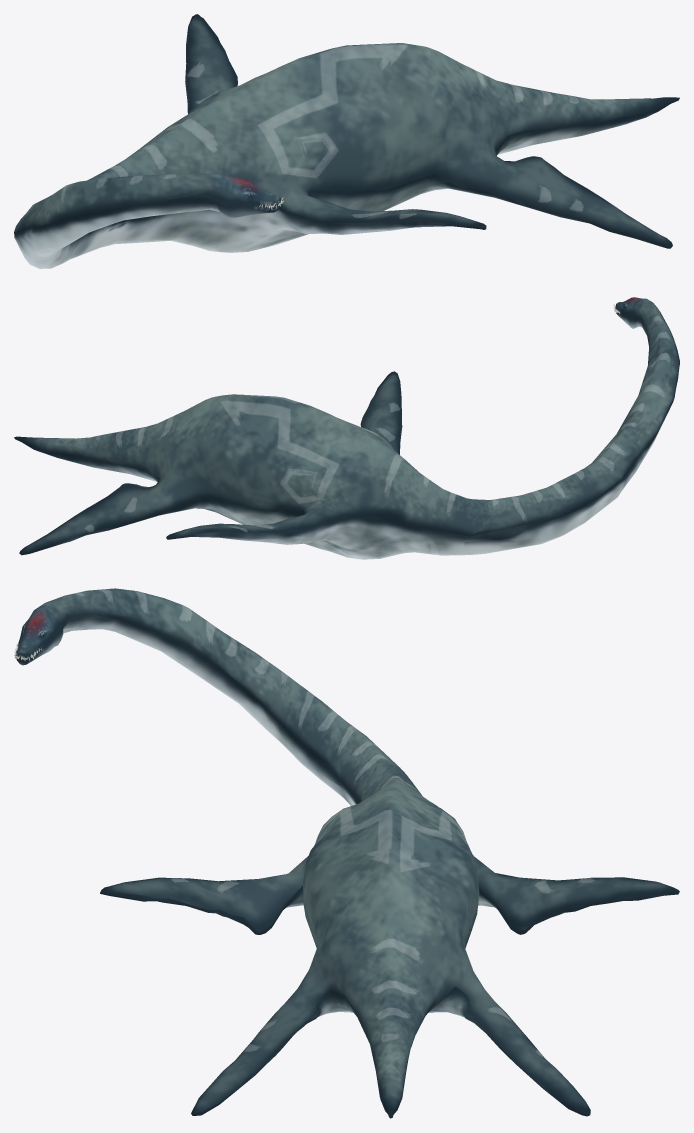
File: dino2.glb
3 renders of one model, top to bottom at view 1: azimuth 30°, elevation 25°; view 2: azimuth 150°, elevation 25°; view 3: azimuth 270°, elevation 25°, orthographic. The views are drawn at different scales.
Visible parts, largest first — view 1: bodyEl; view 2: bodyEl; view 3: bodyEl.
Boxes of the visible parts, left/top/right/bottom form: bodyEl: left=14, top=14, right=679, bottom=268; bodyEl: left=14, top=297, right=679, bottom=559; bodyEl: left=14, top=588, right=679, bottom=1118.
Size of the model in its own units: 7.74 by 2.59 by 6.12.
1 material, 1 textured.
